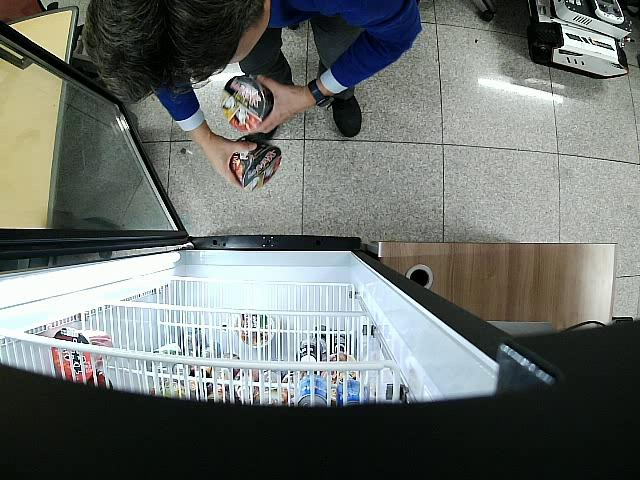00_hand: (245, 75, 306, 133), (201, 135, 257, 191)
07_buldak_L: (222, 76, 274, 132), (232, 138, 281, 192)
